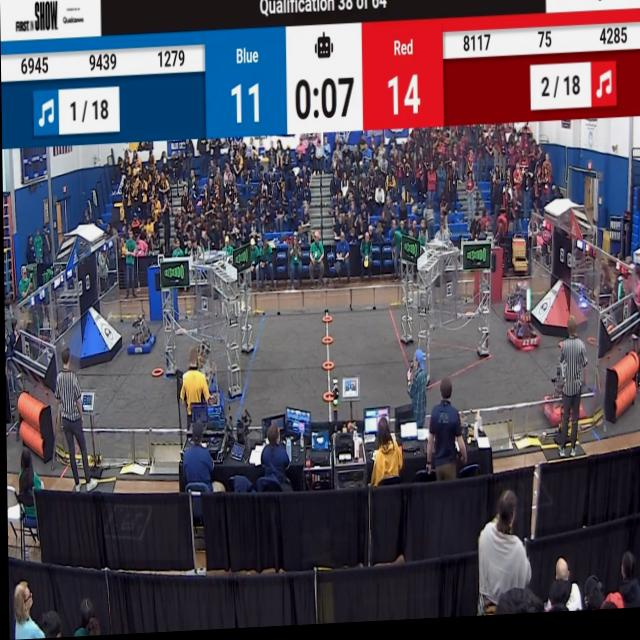Robot: (539, 343, 588, 439), (503, 287, 537, 366), (124, 307, 158, 361), (497, 278, 531, 329), (206, 371, 223, 426)
